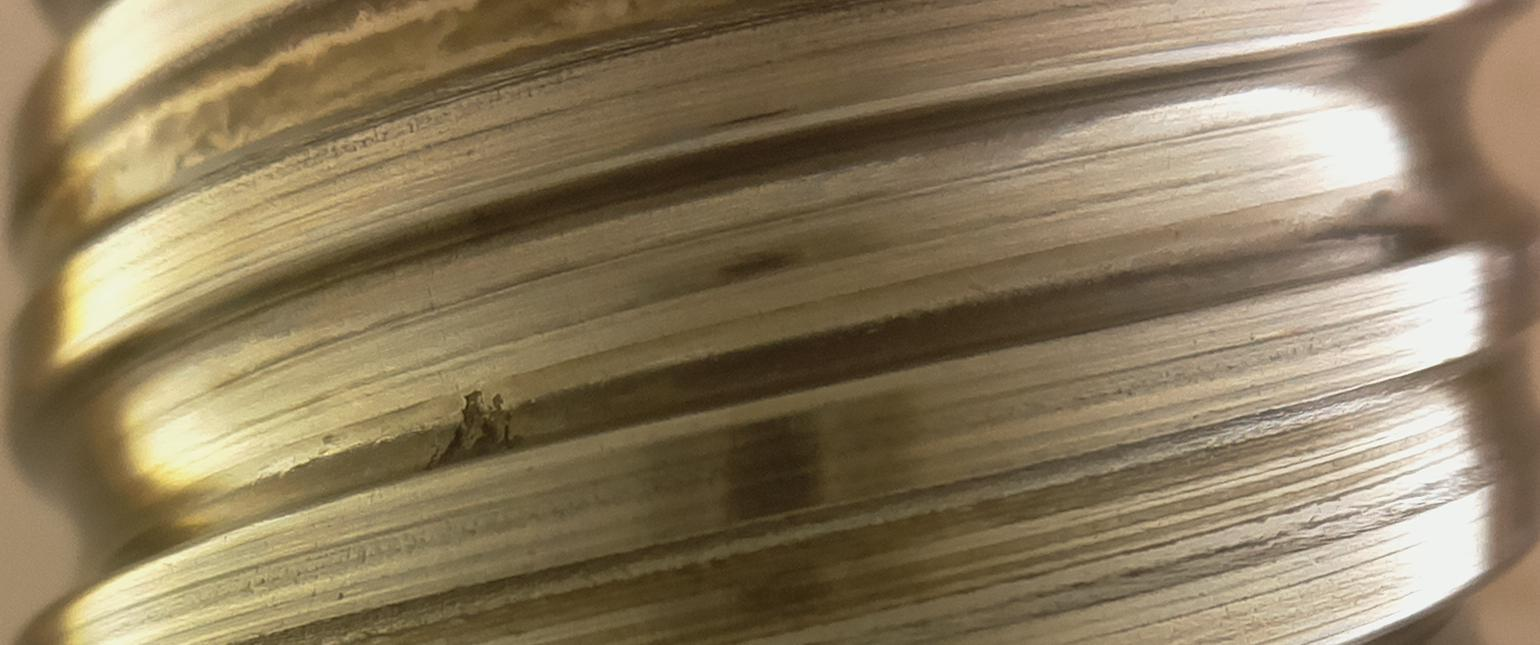pitting: (439, 390, 511, 464)
